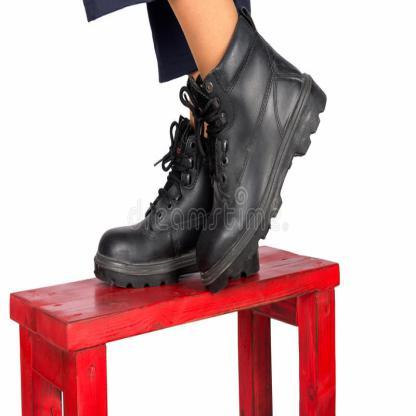bota: (191, 11, 332, 297), (90, 111, 212, 293)
